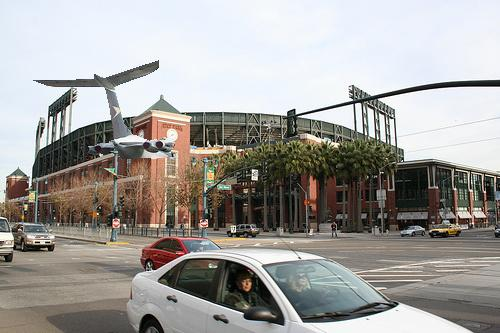tampered: (34, 61, 176, 159)
